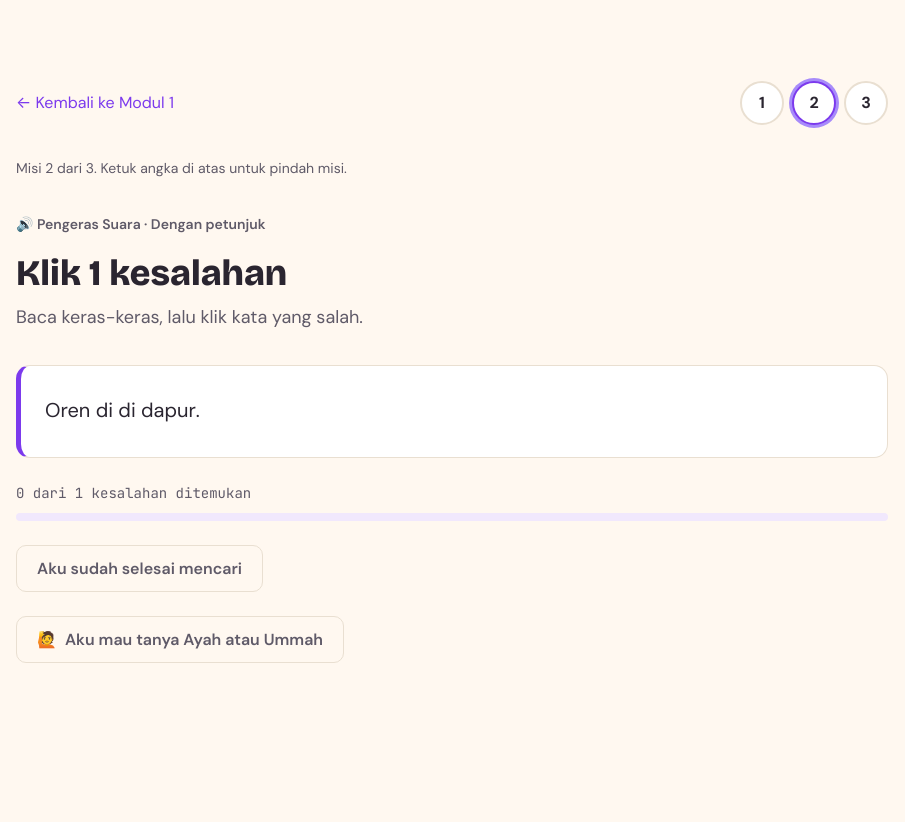
it: Misi › klik kesalahan sampai selesai: versi benar dan tombol Misi berikutnya
The image size is (905, 822).
Expected: the heading "Klik 1 kesalahan" is shown, [16, 252, 287, 295]
Expected: the text "Misi 2 dari 3. Ketuk angka di atas untuk pindah misi." is shown, [16, 159, 347, 177]
Click the 2nd button "di": (127, 411) [118, 390, 136, 433]
(page scrolled)
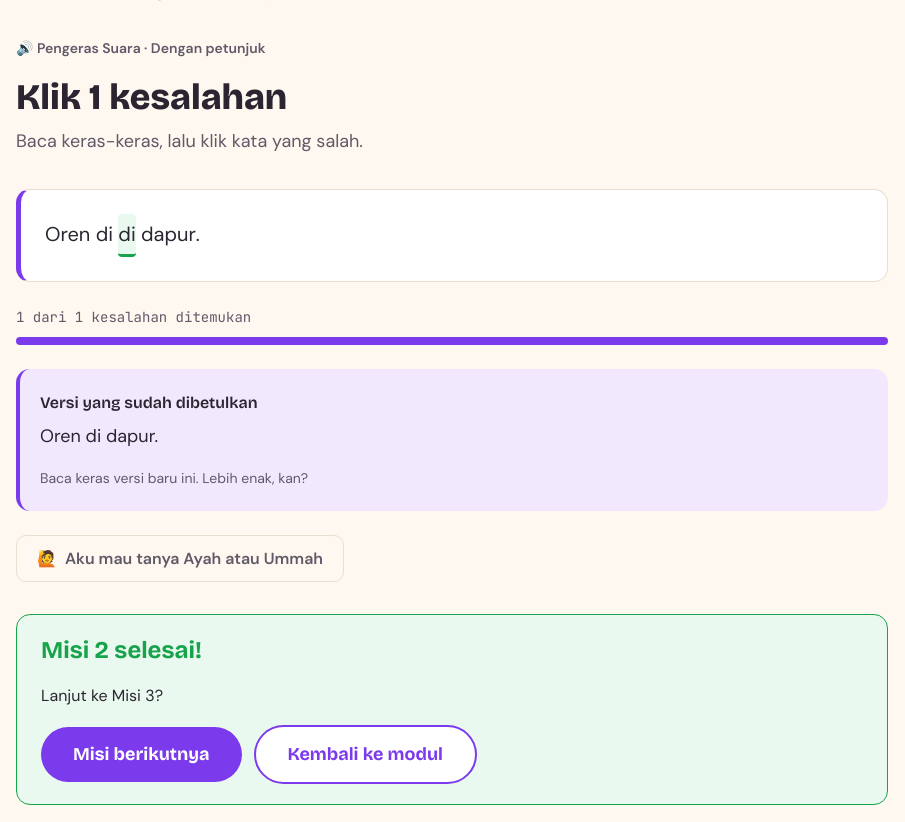
Now the text "Oren di dapur." is shown, box [40, 424, 158, 448]
Now the heading "Misi 2 selesai!" is shown, box [41, 636, 202, 664]
